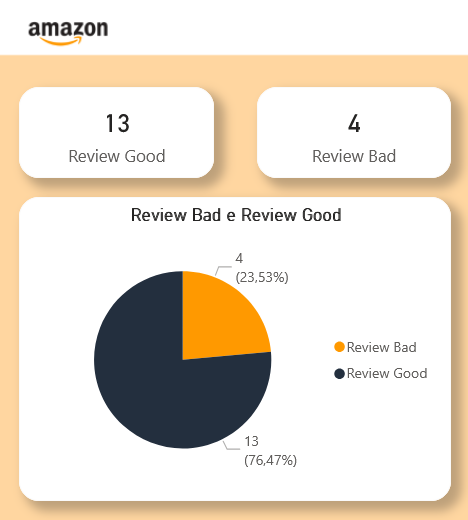

The dashboard page shown, as its layout file describes it:
{"tool":"powerbi","page":{"name":"TT_01","canvas":[450,500],"ordinal":3},"visuals":[{"type":"card","fields":{"Values":["#Medidas.Reviwe God"]},"box":[22.2,84.4,184.4,85.6],"z":0},{"type":"card","fields":{"Values":["#Medidas.Review_bad"]},"box":[247.8,84.4,184.4,85.6],"z":1},{"type":"pieChart","fields":{"Y":["#Medidas.Review Bad","#Medidas.Review Good"]},"box":[22.2,187.8,410,288.9],"z":2}]}

Visuals, with their boxes in screenshot pixels (x1, y1, x2, y2), scaled from the page's 450x500 canvas onto the 468x520 screenshot:
card - #Medidas.Reviwe God: left=23, top=88, right=215, bottom=177
card - #Medidas.Review_bad: left=258, top=88, right=449, bottom=177
pieChart - #Medidas.Review Bad x #Medidas.Review Good: left=23, top=195, right=449, bottom=496
